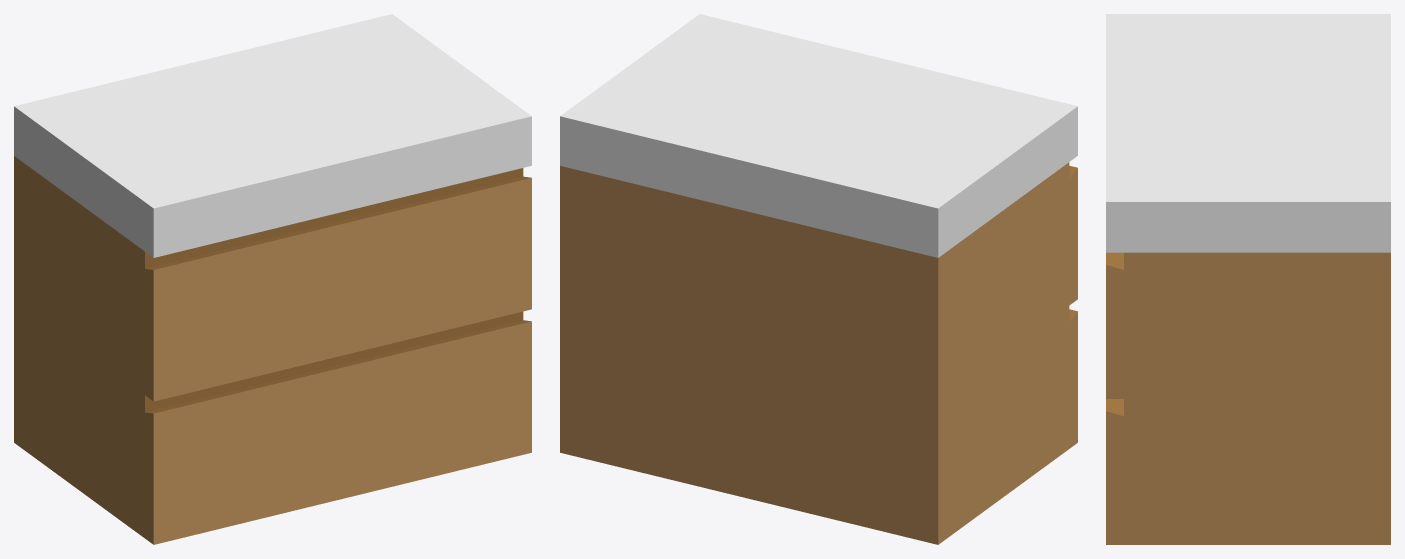
Rendered from furniture-cabinet-bathroom.glb.
The picture shows the model from 3 angles, left to right: view 1: azimuth 30°, elevation 25°; view 2: azimuth 150°, elevation 25°; view 3: azimuth 270°, elevation 25°; orthographic projection.
Visible parts, largest first — view 1: cabinet-bathroom; view 2: cabinet-bathroom; view 3: cabinet-bathroom.
Boxes of the visible parts, bbox=[...] form: cabinet-bathroom: bbox=[14, 14, 531, 544]; cabinet-bathroom: bbox=[560, 14, 1077, 544]; cabinet-bathroom: bbox=[1106, 14, 1390, 544].
Size of the model in its own units: 0.8 by 0.68 by 0.512.
